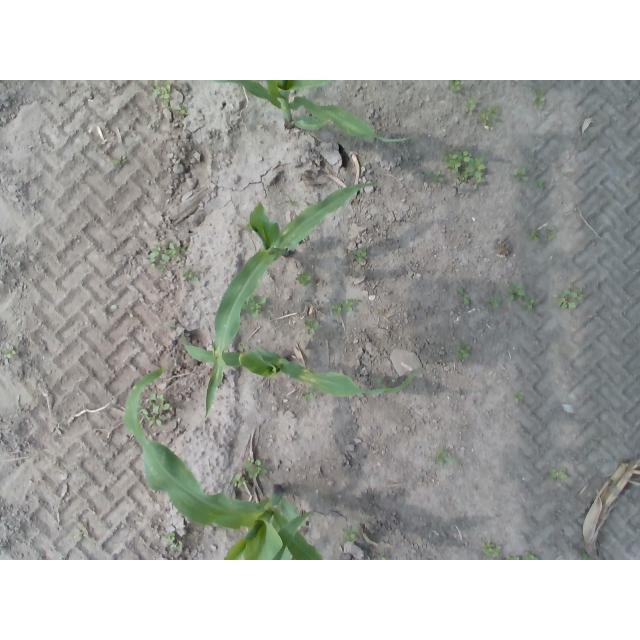Maize: (207, 184, 377, 416), (123, 369, 326, 560), (213, 81, 411, 144), (185, 344, 423, 396)
Weeds: (461, 160, 488, 184), (556, 284, 582, 306), (476, 107, 500, 127), (248, 294, 268, 316), (446, 149, 470, 167), (141, 405, 161, 425), (149, 246, 169, 262), (151, 396, 169, 413), (158, 86, 175, 102), (458, 287, 472, 305), (308, 318, 323, 334), (533, 93, 547, 110), (515, 167, 530, 182), (509, 285, 525, 299), (551, 468, 568, 481), (429, 171, 444, 185), (437, 450, 449, 467), (343, 531, 358, 544), (449, 80, 464, 93), (235, 471, 248, 485), (354, 248, 369, 260), (464, 99, 476, 114), (490, 294, 504, 306), (167, 243, 181, 255), (297, 274, 312, 285), (253, 461, 264, 475), (514, 391, 525, 405), (481, 542, 498, 551), (184, 270, 201, 279), (531, 229, 541, 244), (164, 532, 176, 544), (115, 157, 127, 167), (458, 347, 470, 356), (333, 301, 343, 311), (347, 299, 354, 310), (248, 458, 256, 467), (528, 301, 538, 308), (527, 554, 538, 560)
